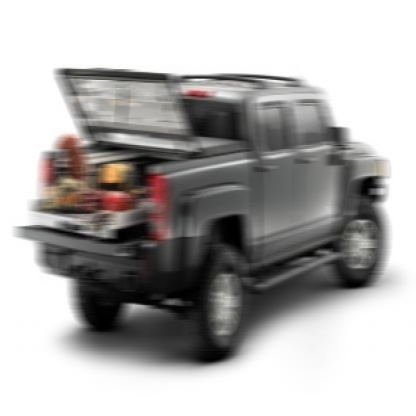Vehicle: (19, 68, 387, 363)
